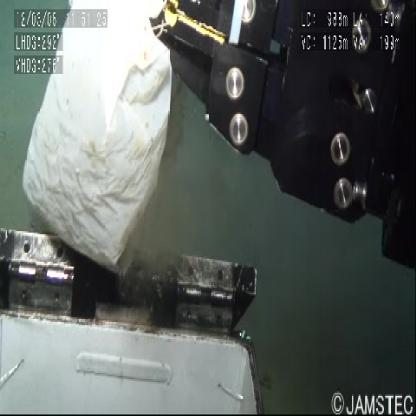Rov: (159, 1, 415, 278), (1, 228, 264, 416)
Rác: (17, 1, 183, 289)
